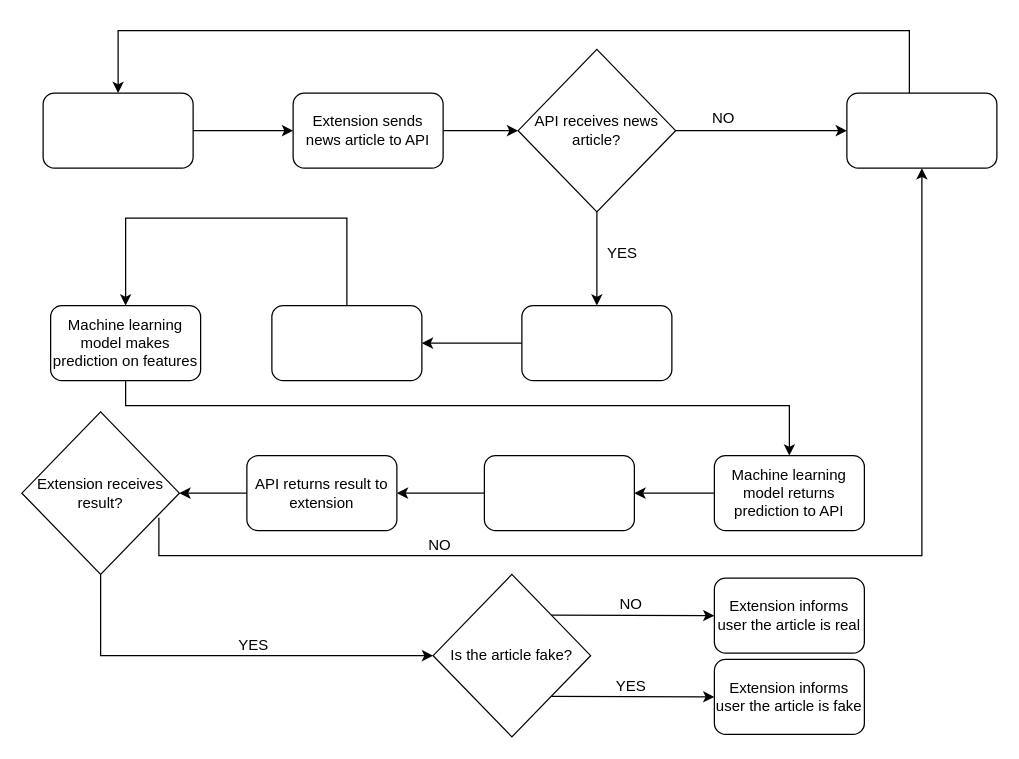
This 1019x759 diagram has some shape labels left out. The centre of each missing label's shape, as x and y in pixels:
"API serializes prediction" belongs at (x=558, y=492).
"API transforms news article into features" belongs at (x=596, y=342).
"API transmits features to machine learning model" belongs at (x=346, y=342).
"Extension asks user to try again" belongs at (x=921, y=130).
"User validates news article via extension" belongs at (x=117, y=130).
